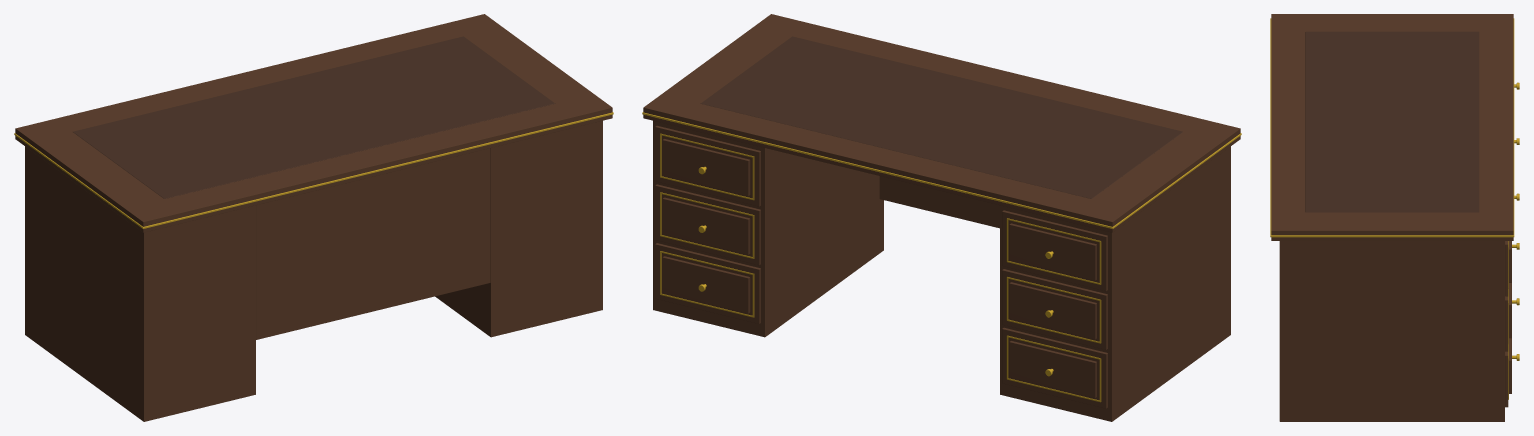
Rendered from prop_desk_exec.glb.
3 views of the same model, side by side, from view 1: azimuth 30°, elevation 25°; view 2: azimuth 150°, elevation 25°; view 3: azimuth 270°, elevation 25° (orthographic). The views are drawn at different scales.
Visible parts, largest first — view 1: Desk; view 2: Desk; view 3: Desk.
Boxes of the visible parts, x1,y1,x2,y2 form: Desk: [14, 14, 613, 421]; Desk: [642, 14, 1241, 421]; Desk: [1270, 14, 1519, 421].
Size of what is drawn, in the model's own units: 1.81 by 0.7515 by 0.874.
